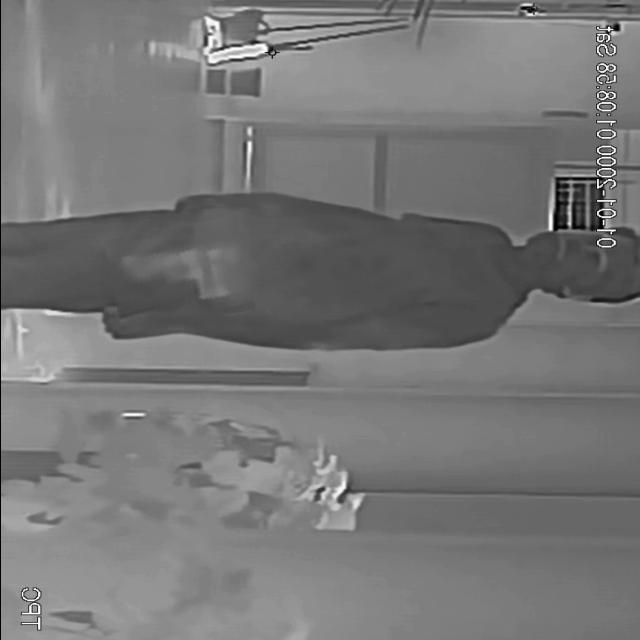Weapon: (106, 221, 250, 329)
